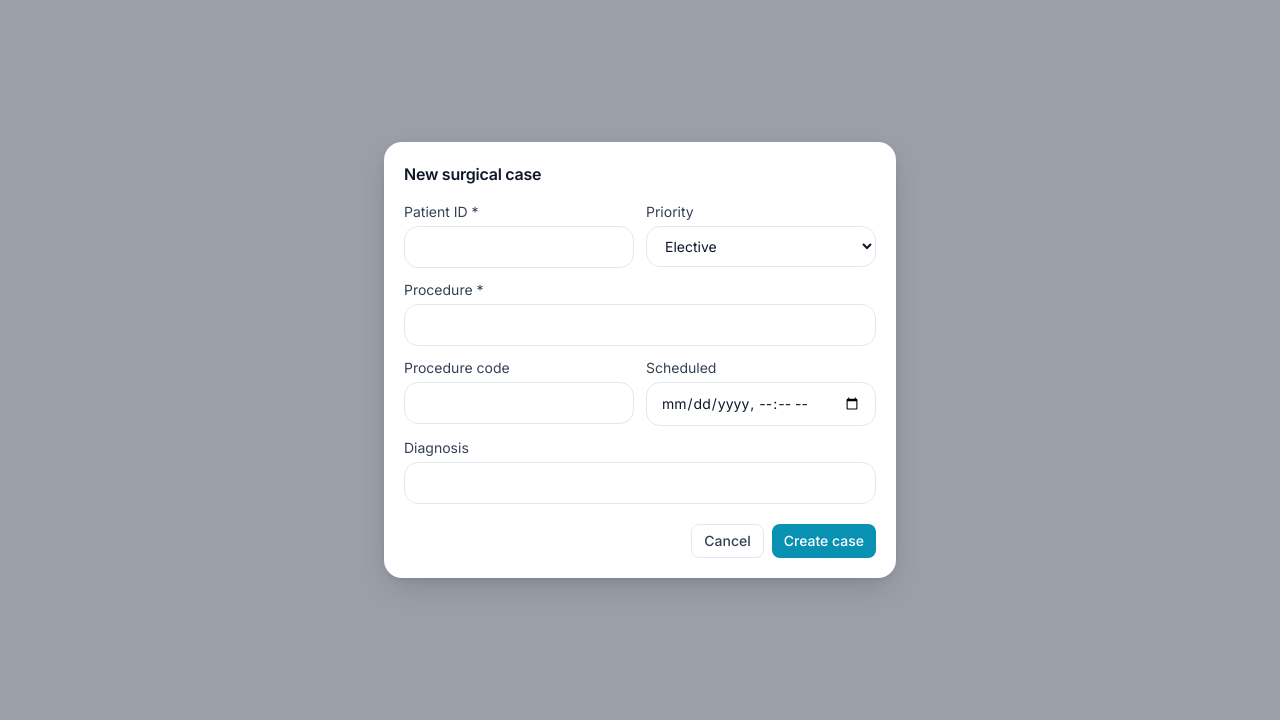
Test case: CaseForm › requires patient id and procedure
Click the button "Create case" at (824, 541), box [772,524,876,558]
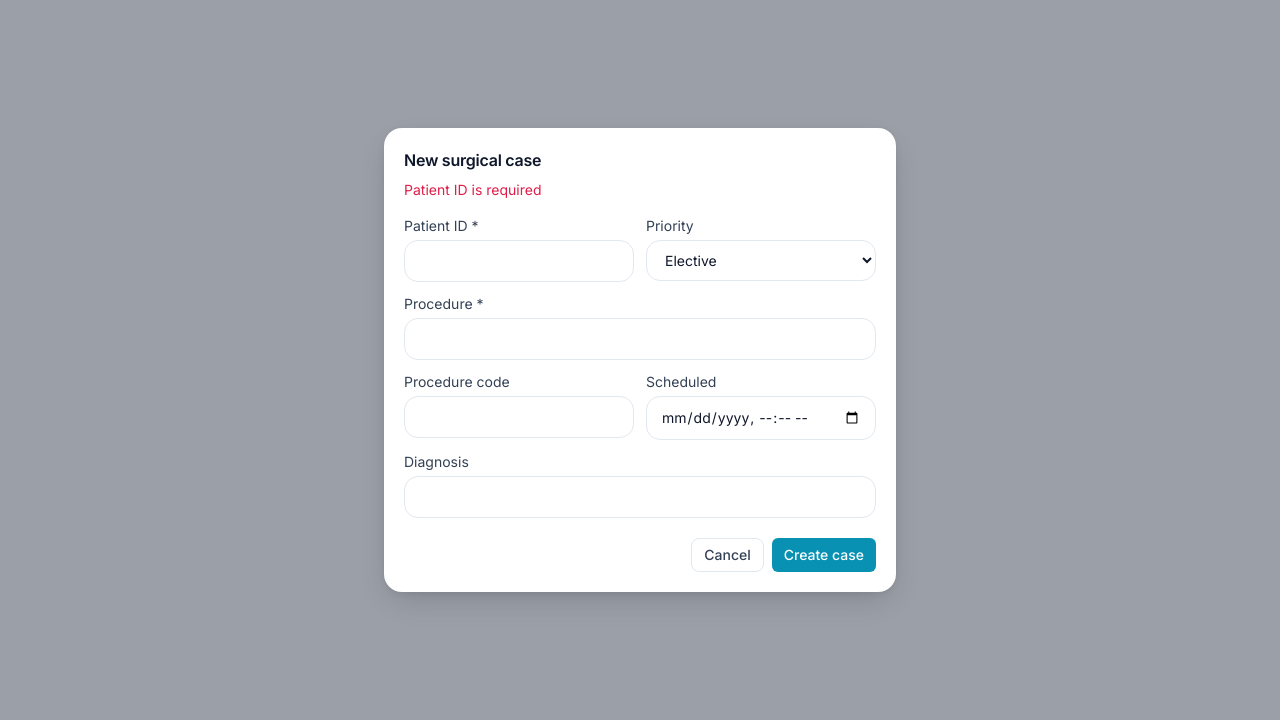
Now the text "Patient ID is required" is shown, box [404,181,542,198]
